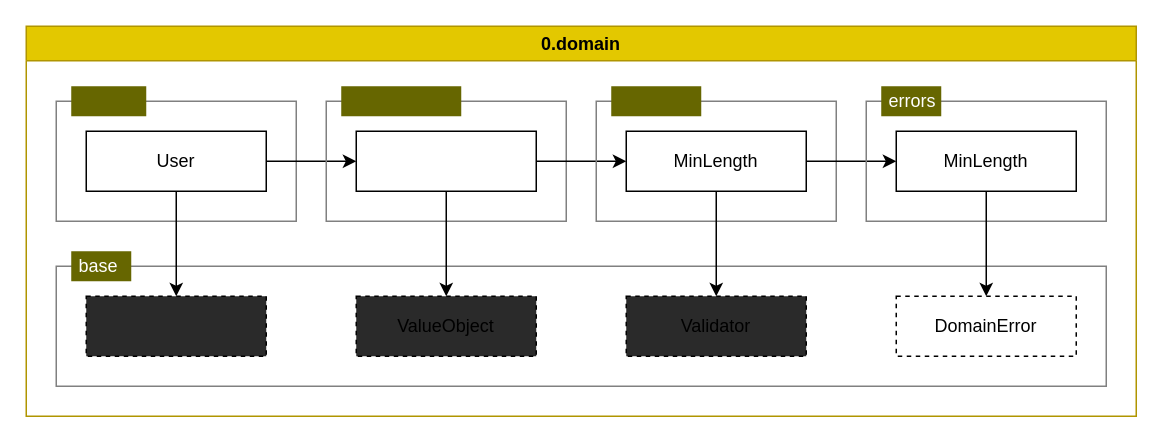
The diagram is 1163 pixels wide and 443 high, and some of its shapes have lost their labels. Here are the shapes that lost their labels. From the top down, the centre of each, then its label:
the point at 108,101: entities
the point at 400,101: value-objects
the point at 655,101: validators
the point at 445,160: Name
the point at 175,325: Entity
